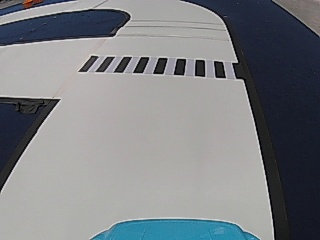CrossWalk: (85, 55, 243, 79)
